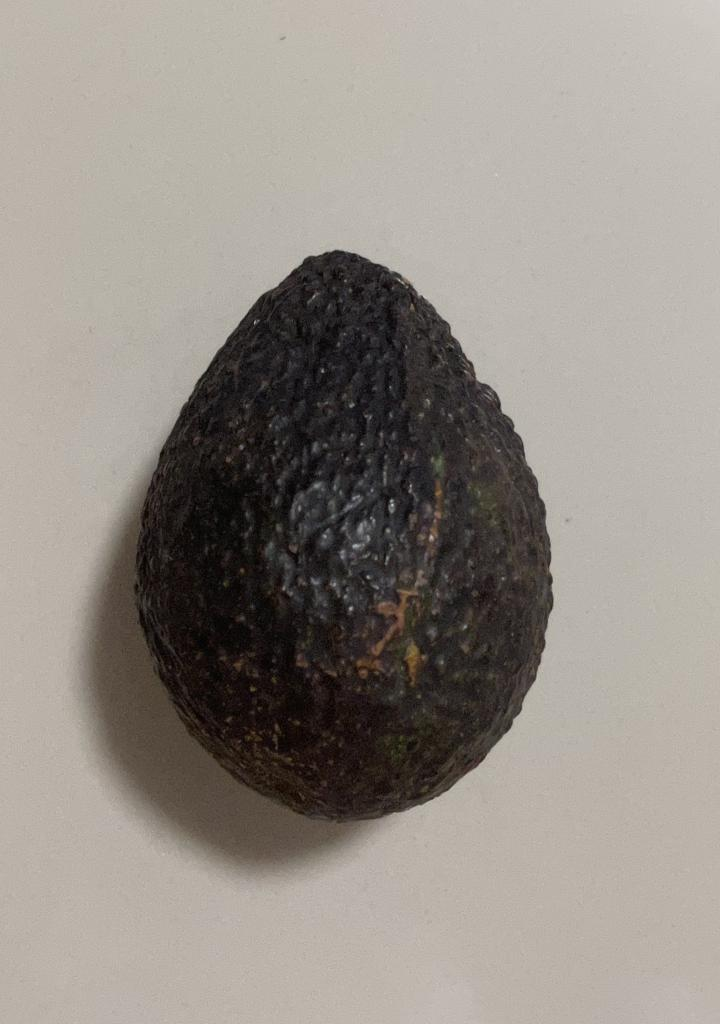Level2: (124, 234, 562, 830)
